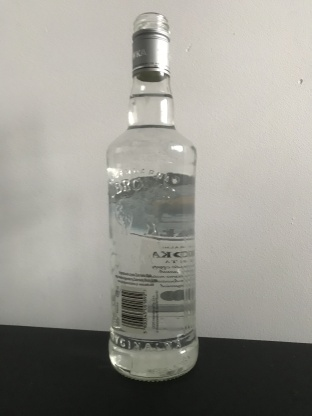nakretka: (130, 9, 172, 83)
